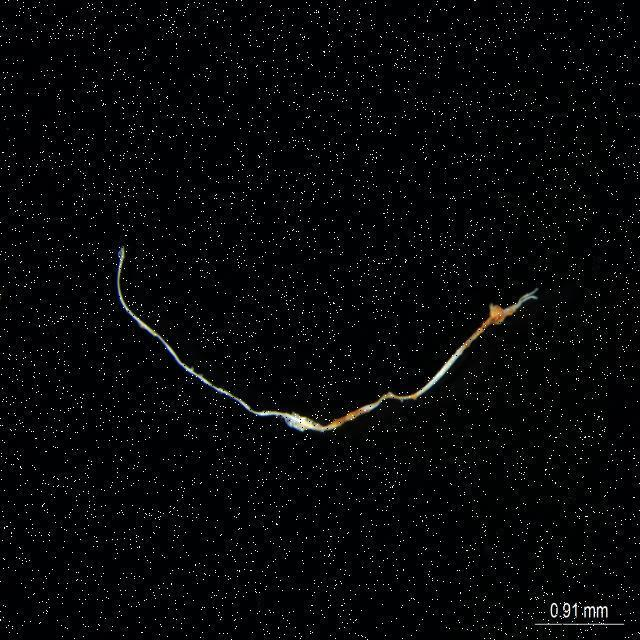Fibre: (116, 240, 536, 436)
